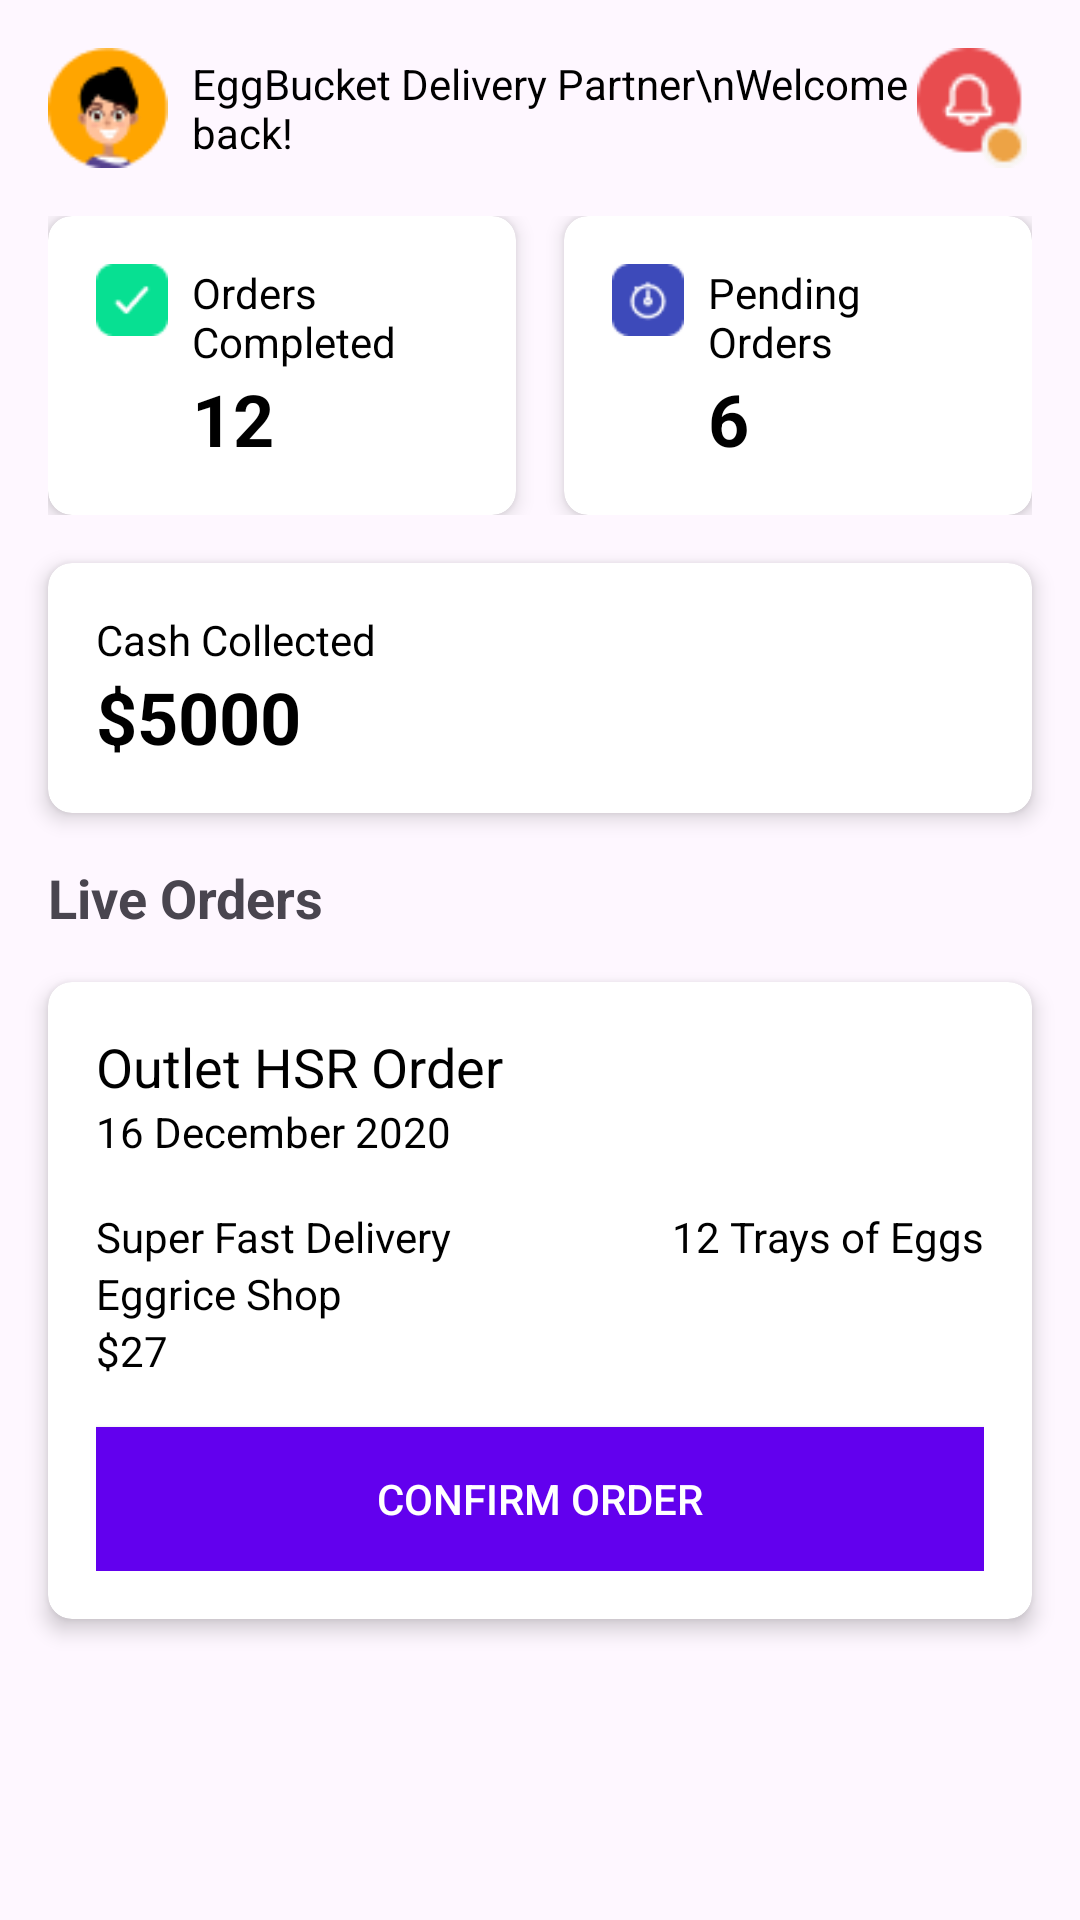

Where to tap for icons on this 1080px×1920px app screen, as (x,y):
check: (132,300)
notification: (969,105)
profile: (108,108)
stopwatch: (648,300)
